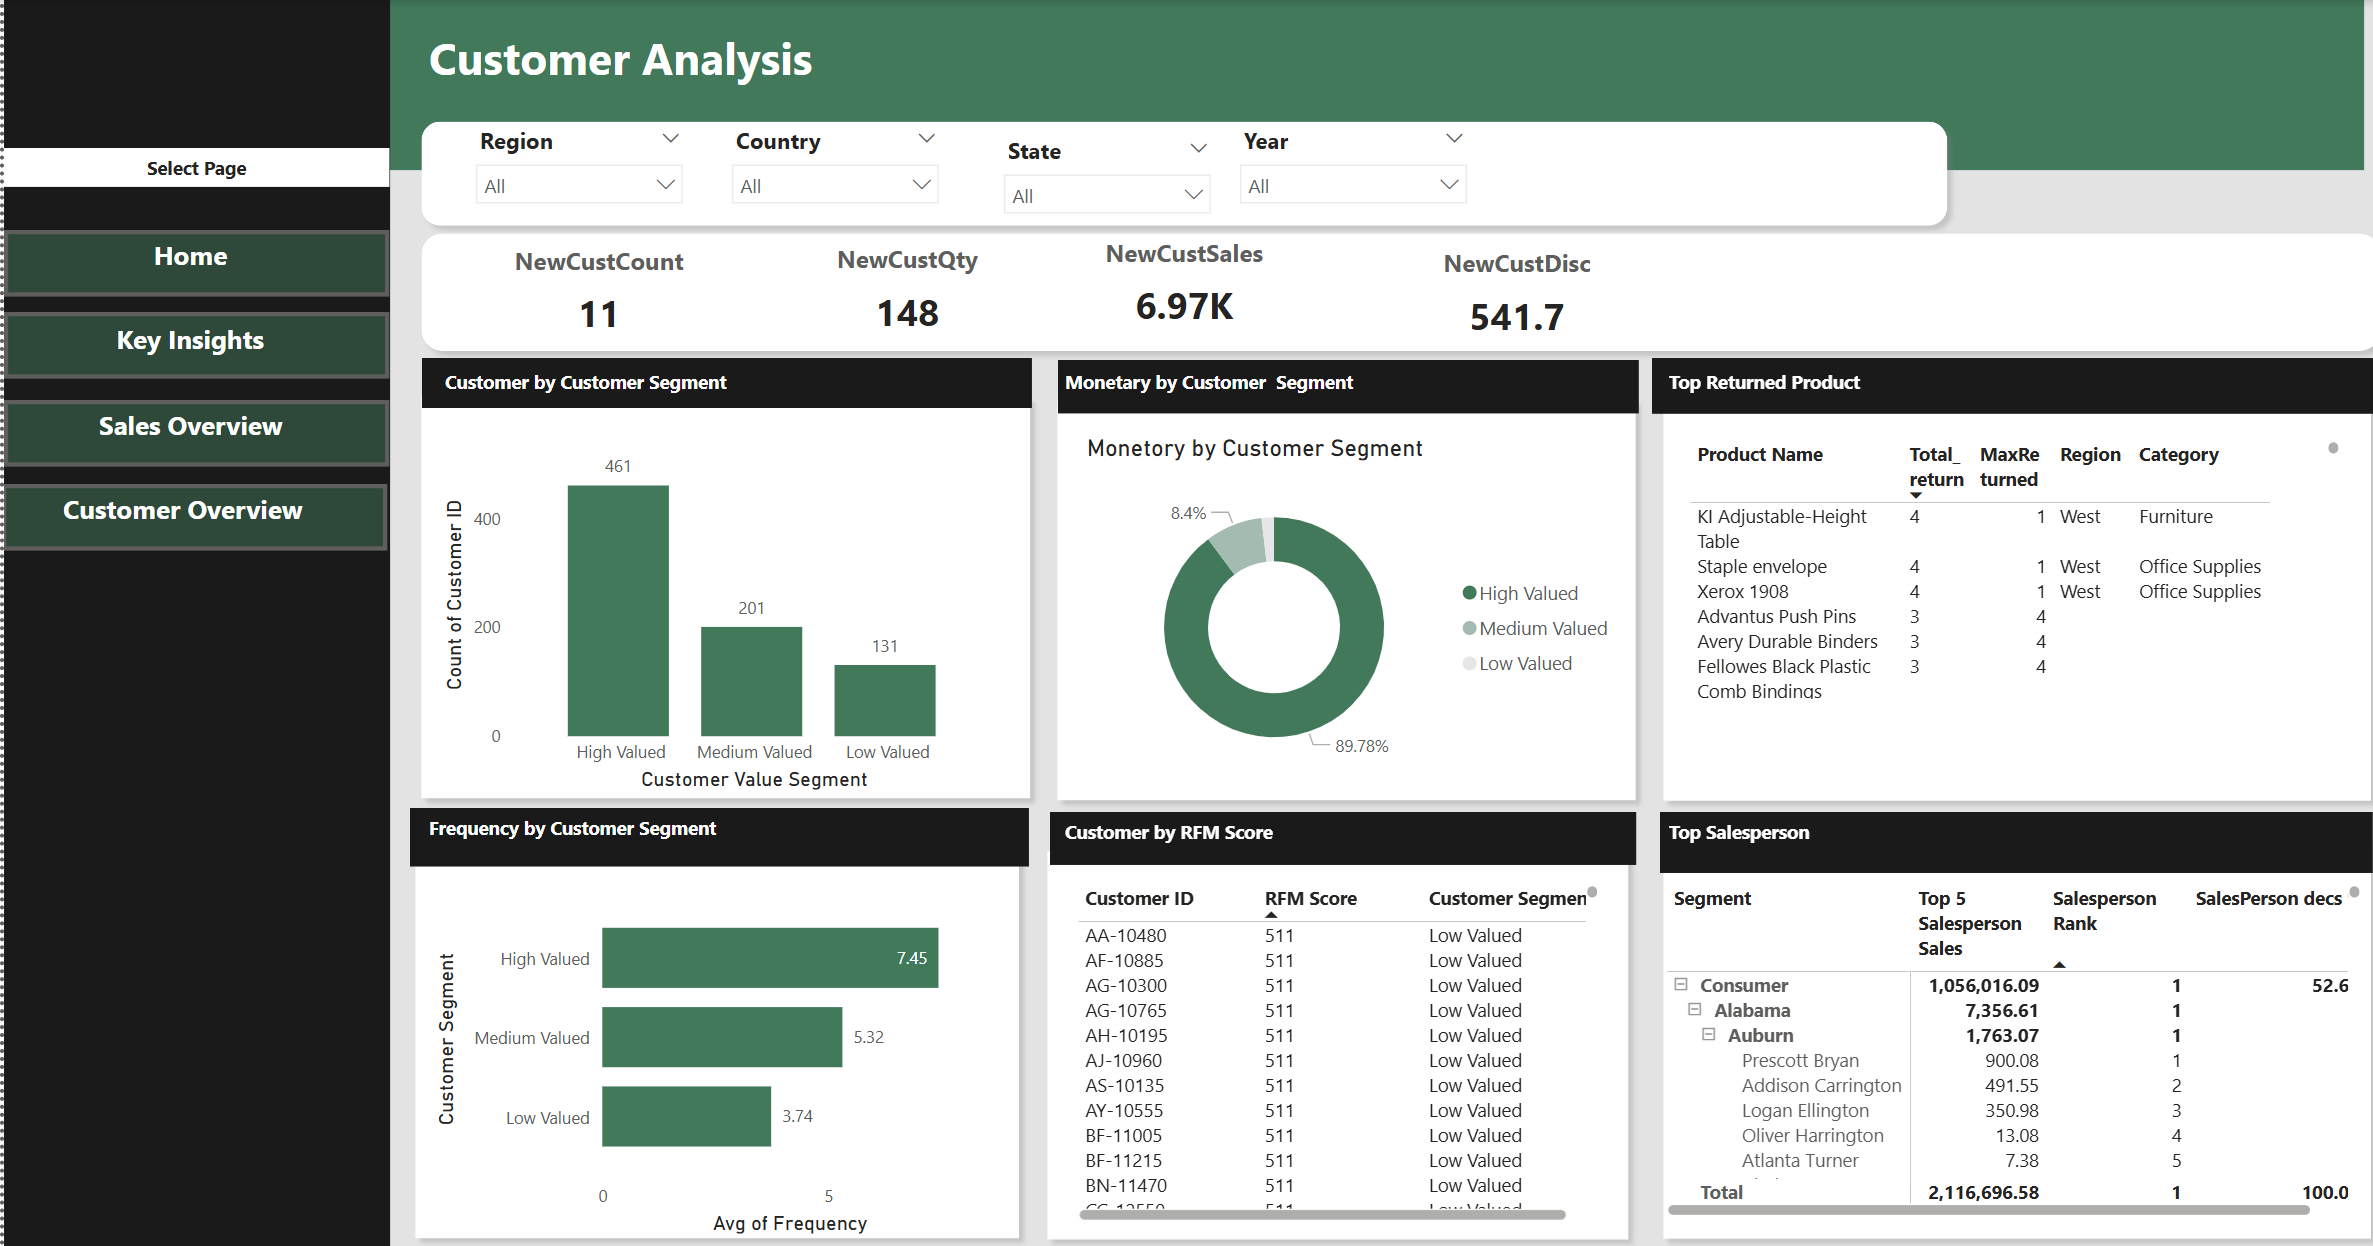

This screenshot's page, from the dashboard's own definition file:
{"tool":"powerbi","page":{"name":"Customer Analysis","canvas":[1720,900],"ordinal":3},"visuals":[{"type":"shape","box":[1186.8,277.5,525.9,306.8],"z":0},{"type":"shape","box":[743.1,604.4,434.6,295.8],"z":1000},{"type":"shape","box":[1186.8,593.4,525.9,306.8],"z":2000},{"type":"shape","box":[288.5,595.2,451,304.9],"z":3000},{"type":"shape","box":[750.4,279.4,432.7,304.9],"z":4000},{"type":"shape","box":[292.1,277.5,454.6,304.9],"z":5000},{"type":"shape","box":[292.9,159.3,1427.1,101.1],"z":6000},{"type":"shape","box":[0,0,1699.3,122.5],"z":7000},{"type":"shape","box":[0,0,278,900],"z":8000},{"type":"actionButton","box":[0,225.3,277.3,47.9],"z":9000},{"type":"textbox","box":[0,107,277.3,28.2],"z":11000},{"type":"textbox","box":[12.5,226.1,242.2,49.9],"z":12000},{"type":"actionButton","box":[-0.4,288.1,277.3,47.9],"z":13000},{"type":"textbox","box":[24.3,287.6,220,52],"z":14000},{"type":"actionButton","box":[-0.8,348.3,277.3,47.9],"z":15000},{"type":"textbox","box":[12.5,349,231.5,65.9],"z":16000},{"type":"shape","box":[293,79.4,1115,91.6],"z":17000},{"type":"slicer","title":"Year","fields":{"Values":["Orders.Region"]},"box":[329.4,85.5,169.2,78.3],"z":18000},{"type":"slicer","title":"Year","fields":{"Values":["DateTable.Year"]},"box":[879.6,85.5,183.4,78.3],"z":19000},{"type":"slicer","title":"Year","fields":{"Values":["Orders.State"]},"box":[710.4,92.6,169.2,78.3],"z":20000},{"type":"slicer","title":"Year","fields":{"Values":["Orders.Country"]},"box":[514.6,85.5,169.2,78.3],"z":21000},{"type":"actionButton","box":[0.2,165.8,277.3,47.9],"z":22000},{"type":"textbox","box":[12.3,165.8,242.5,48.5],"z":23000},{"type":"cardVisual","fields":{"Data":["NewCustomers2021.NewCustomerSales2021"]},"box":[738.4,133.6,222.7,138.8],"z":24000},{"type":"cardVisual","fields":{"Data":["NewCustomers2021.NewCustomerQty2021"]},"box":[507.1,155.9,287.8,104.5],"z":25000},{"type":"cardVisual","fields":{"Data":["NewCustomers2021.NewCustomerDiscount2021"]},"box":[940.5,143.9,298.1,133.6],"z":26000},{"type":"cardVisual","fields":{"Data":["NewCustomers2021.NewCustomerCount2021"]},"box":[311.8,128.5,233,161],"z":27000},{"type":"pivotTable","fields":{"Rows":["Orders.Segment","Orders.State","Orders.City","SalesPerson.Sales_person"],"Values":["Measures_1.Top 5 Salesperson Sales","Measures_1.Salesperson Rank","Measures_1.SalesPerson decs %"]},"box":[1192.3,631.8,509.4,248.3],"z":28000},{"type":"tableEx","title":"Mostly returned Product with region and cat","fields":{"Values":["Product.Product Name","Measures_1.Total_return","Measures_1.most returned product","Measures_1.top product region","Measures_1.top product cat"]},"box":[1208.7,312.2,478.4,195.4],"z":29000},{"type":"clusteredColumnChart","fields":{"Category":["rfm table.Customer Value Segment"],"Y":["CountNonNull(rfm table.Customer ID)"]},"box":[310.4,312.2,407.2,261.1],"z":30000},{"type":"donutChart","title":"Monetory by Customer  Segment","fields":{"Category":["rfm table.Customer Value Segment"],"Y":["Sum(rfm table.Monetory value)"]},"box":[774.2,312.2,394.4,259.3],"z":31000},{"type":"barChart","fields":{"Category":["rfm table.Customer Value Segment"],"Y":["Avg(rfm table.Frequency value)"]},"box":[304.9,631.8,405.4,261.1],"z":32000},{"type":"shape","box":[301.3,257.5,439,36],"z":33000},{"type":"textbox","box":[312.2,261.1,398,32.9],"z":34000},{"type":"shape","box":[759.6,259.3,418,38.3],"z":35000},{"type":"textbox","box":[759.6,261.1,409,36.5],"z":36000},{"type":"shape","box":[292.1,582.5,445.5,42],"z":37000},{"type":"textbox","box":[301.3,582.5,416.3,42],"z":38000},{"type":"tableEx","fields":{"Values":["rfm table.Customer ID","rfm table.RFM Score","rfm table.Customer Value Segment"]},"box":[766.9,631.8,385.3,252],"z":39000},{"type":"shape","box":[1192.3,584.3,513.1,43.8],"z":40000},{"type":"shape","box":[1186.8,257.5,522.2,40.2],"z":41000},{"type":"shape","box":[753.1,585.2,422,38],"z":42000},{"type":"textbox","box":[759.6,584.3,434.6,38.3],"z":43000},{"type":"textbox","box":[1194.1,584.3,505.8,47.5],"z":44000},{"type":"textbox","box":[1194.1,261.1,505.8,36.5],"z":45000},{"type":"textbox","box":[301.3,14.6,578.8,63.9],"z":46000},{"type":"actionButton","box":[12.8,169.8,266.6,40.2],"z":47000},{"type":"actionButton","box":[1.8,348.7,266.6,40.2],"z":48000},{"type":"actionButton","box":[11,288.5,266.6,40.2],"z":49000},{"type":"actionButton","box":[12.8,231.9,266.6,40.2],"z":50000}]}

Visuals, with their boxes on the page's 1720x900 design canvas (x1, y1, x2, y2). These are canvas units, not pixel positions in the 2373x1246 screenshot, which may show the page scaled, cropped or inside an application window:
shape: detection(1187, 278, 1713, 584)
shape: detection(743, 604, 1178, 900)
shape: detection(1187, 593, 1713, 900)
shape: detection(288, 595, 740, 900)
shape: detection(750, 279, 1183, 584)
shape: detection(292, 278, 747, 582)
shape: detection(293, 159, 1720, 260)
shape: detection(0, 0, 1699, 122)
shape: detection(0, 0, 278, 900)
actionButton: detection(0, 225, 277, 273)
textbox: detection(0, 107, 277, 135)
textbox: detection(12, 226, 255, 276)
actionButton: detection(0, 288, 277, 336)
textbox: detection(24, 288, 244, 340)
actionButton: detection(-1, 348, 276, 396)
textbox: detection(12, 349, 244, 415)
shape: detection(293, 79, 1408, 171)
"Year" slicer: detection(329, 86, 499, 164)
"Year" slicer: detection(880, 86, 1063, 164)
"Year" slicer: detection(710, 93, 880, 171)
"Year" slicer: detection(515, 86, 684, 164)
actionButton: detection(0, 166, 278, 214)
textbox: detection(12, 166, 255, 214)
cardVisual - NewCustomers2021.NewCustomerSales2021: detection(738, 134, 961, 272)
cardVisual - NewCustomers2021.NewCustomerQty2021: detection(507, 156, 795, 260)
cardVisual - NewCustomers2021.NewCustomerDiscount2021: detection(940, 144, 1239, 278)
cardVisual - NewCustomers2021.NewCustomerCount2021: detection(312, 128, 545, 290)
pivotTable - Orders.Segment x Orders.State: detection(1192, 632, 1702, 880)
"Mostly returned Product with region and cat" tableEx: detection(1209, 312, 1687, 508)
clusteredColumnChart - rfm table.Customer Value Segment x CountNonNull(rfm table.Customer ID): detection(310, 312, 718, 573)
"Monetory by Customer  Segment" donutChart: detection(774, 312, 1169, 572)
barChart - rfm table.Customer Value Segment x Avg(rfm table.Frequency value): detection(305, 632, 710, 893)
shape: detection(301, 258, 740, 294)
textbox: detection(312, 261, 710, 294)
shape: detection(760, 259, 1178, 298)
textbox: detection(760, 261, 1169, 298)
shape: detection(292, 582, 738, 624)
textbox: detection(301, 582, 718, 624)
tableEx - rfm table.Customer ID x rfm table.RFM Score: detection(767, 632, 1152, 884)
shape: detection(1192, 584, 1705, 628)
shape: detection(1187, 258, 1709, 298)
shape: detection(753, 585, 1175, 623)
textbox: detection(760, 584, 1194, 623)
textbox: detection(1194, 584, 1700, 632)
textbox: detection(1194, 261, 1700, 298)
textbox: detection(301, 15, 880, 78)
actionButton: detection(13, 170, 279, 210)
actionButton: detection(2, 349, 268, 389)
actionButton: detection(11, 288, 278, 329)
actionButton: detection(13, 232, 279, 272)
